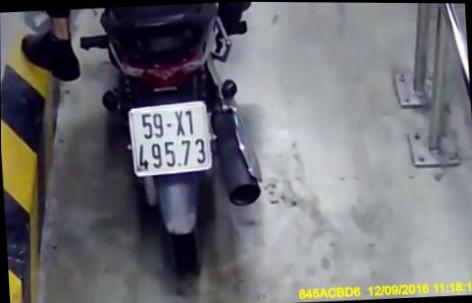LP: (125, 99, 214, 179)
